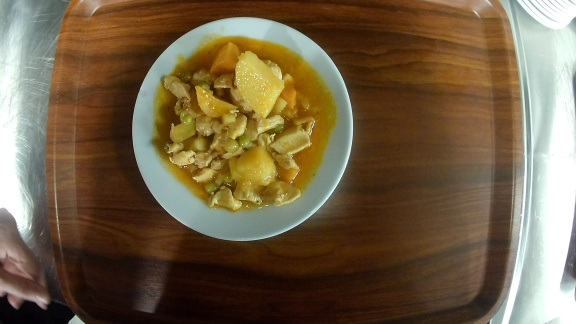bezelyelitavuk: (129, 16, 356, 245)
